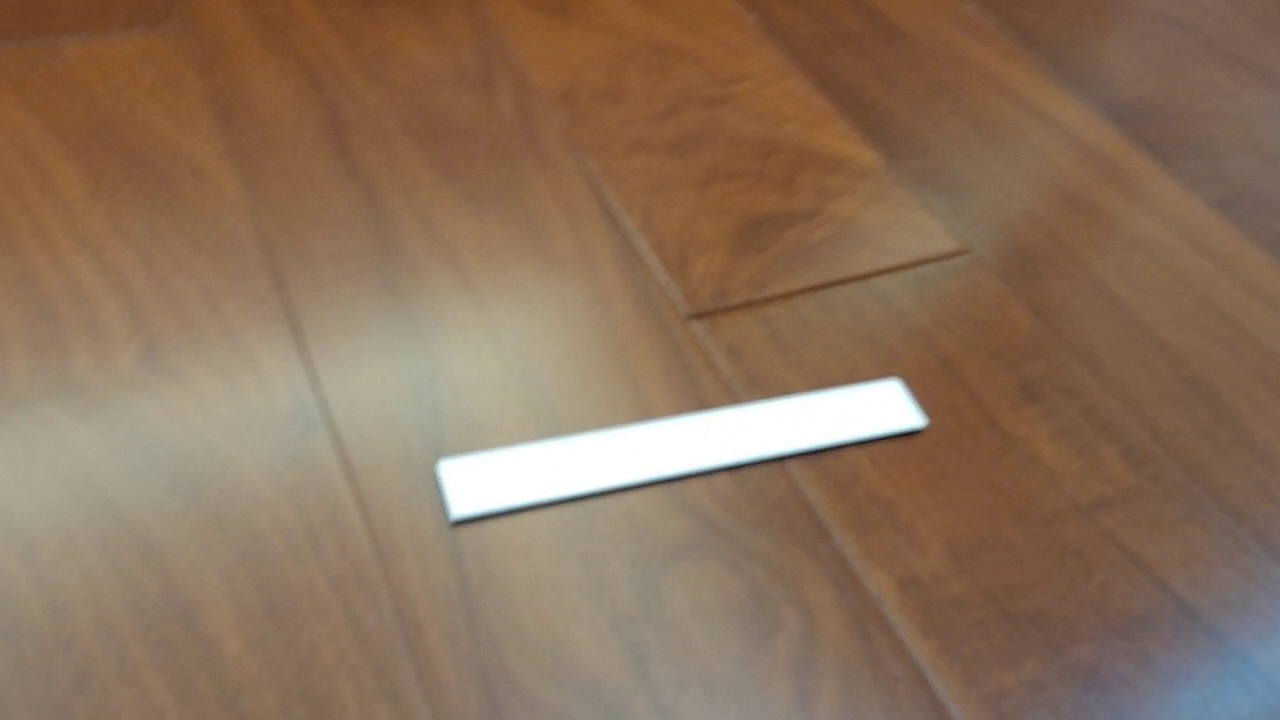ruler: (432, 374, 932, 528)
